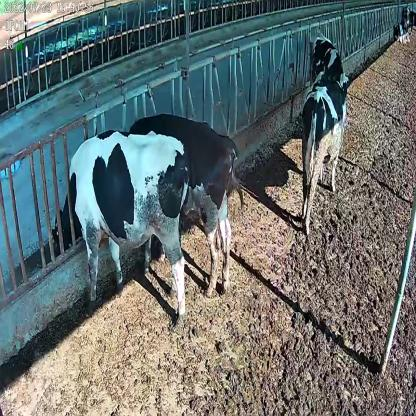cow: (49, 130, 190, 331), (130, 111, 244, 296), (300, 68, 347, 230), (309, 31, 348, 93)
